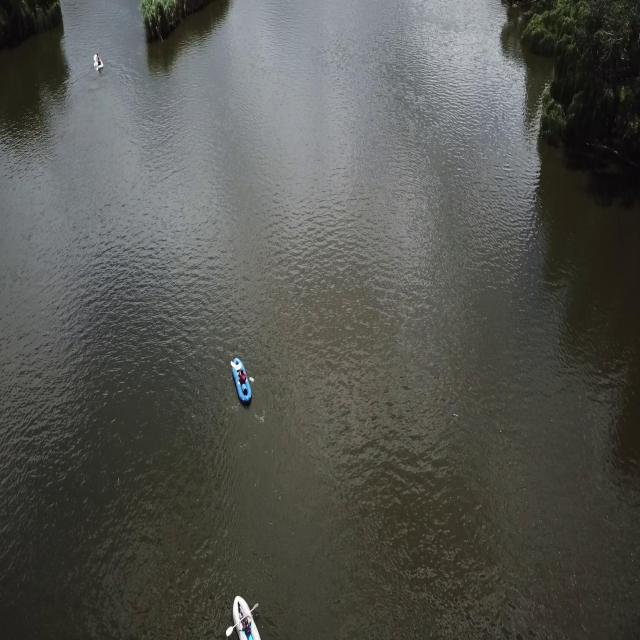kayak: (230, 354, 253, 408), (92, 51, 105, 75)
